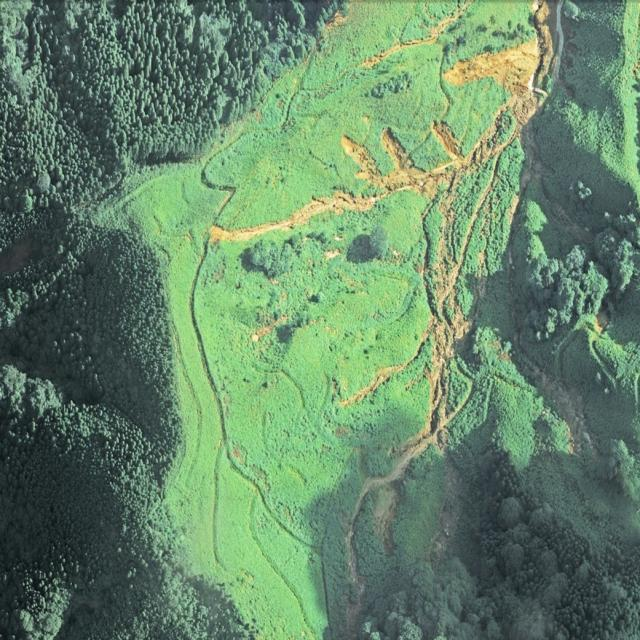landslide: (209, 1, 555, 243), (386, 233, 471, 480), (360, 1, 472, 66)
